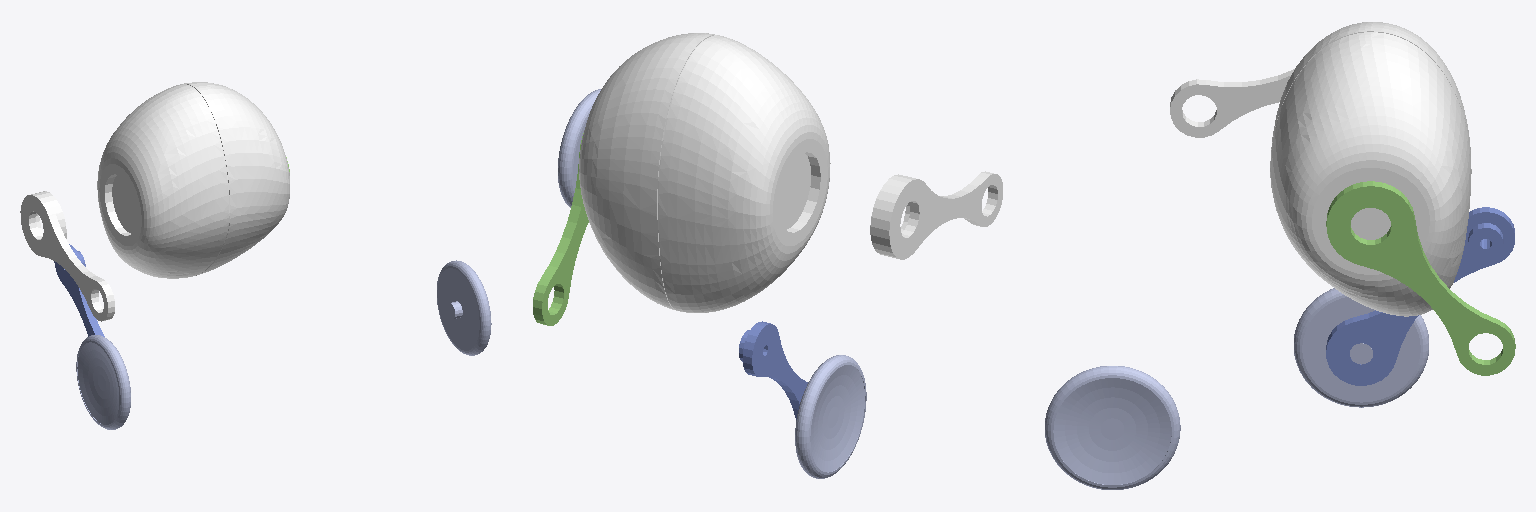
The robot description file, URDF, robot "two_wheel_bot_urdf2":
<?xml version="1.0" encoding="utf-8"?>
<!-- This URDF was automatically created by SolidWorks to URDF Exporter! Originally created by [author] ([email redacted]) 
     Commit Version: 1.6.0-4-g7f85cfe  Build Version: 1.6.7995.38578
     For more information, please see http://wiki.ros.org/sw_urdf_exporter -->
<robot
  name="two_wheel_bot_urdf2">
  <link
    name="base_link">
    <inertial>
      <origin
        xyz="-2.1434E-06 -0.0034235 0.0038162"
        rpy="0 0 0" />
      <mass
        value="5.2299" />
      <inertia
        ixx="0.025489"
        ixy="5.2106E-07"
        ixz="-4.6661E-08"
        iyy="0.021721"
        iyz="-0.0013874"
        izz="0.03001" />
    </inertial>
    <visual>
      <origin
        xyz="0 0 0"
        rpy="0 0 0" />
      <geometry>
        <mesh
          filename="package://two_wheel_bot_urdf2/meshes/base_link.STL" />
      </geometry>
      <material
        name="">
        <color
          rgba="1 1 1 1" />
      </material>
    </visual>
    <collision>
      <origin
        xyz="0 0 0"
        rpy="0 0 0" />
      <geometry>
        <mesh
          filename="package://two_wheel_bot_urdf2/meshes/base_link.STL" />
      </geometry>
    </collision>
  </link>
  <link
    name="link1L">
    <inertial>
      <origin
        xyz="-0.0022174 0.02671 -0.031434"
        rpy="0 0 0" />
      <mass
        value="0.09209" />
      <inertia
        ixx="0.00035582"
        ixy="-5.4542E-06"
        ixz="6.4189E-06"
        iyy="0.00020405"
        iyz="0.00014538"
        izz="0.00015648" />
    </inertial>
    <visual>
      <origin
        xyz="0 0 0"
        rpy="0 0 0" />
      <geometry>
        <mesh
          filename="package://two_wheel_bot_urdf2/meshes/link1L.STL" />
      </geometry>
      <material
        name="">
        <color
          rgba="0.64706 0.8549 0.53333 1" />
      </material>
    </visual>
    <collision>
      <origin
        xyz="0 0 0"
        rpy="0 0 0" />
      <geometry>
        <mesh
          filename="package://two_wheel_bot_urdf2/meshes/link1L.STL" />
      </geometry>
    </collision>
  </link>
  <joint
    name="joint1L"
    type="revolute">
    <origin
      xyz="0.105 0 0"
      rpy="0 0 0" />
    <parent
      link="base_link" />
    <child
      link="link1L" />
    <axis
      xyz="-1 0 0" />
    <limit
      lower="0"
      upper="0"
      effort="0"
      velocity="0" />
  </joint>
  <link
    name="link2L">
    <inertial>
      <origin
        xyz="0.0091303 -0.052372 -0.053402"
        rpy="0 0 0" />
      <mass
        value="0.072246" />
      <inertia
        ixx="0.00032698"
        ixy="3.2906E-06"
        ixz="3.3553E-06"
        iyy="0.00016763"
        iyz="-0.00015236"
        izz="0.0001617" />
    </inertial>
    <visual>
      <origin
        xyz="0 0 0"
        rpy="0 0 0" />
      <geometry>
        <mesh
          filename="package://two_wheel_bot_urdf2/meshes/link2L.STL" />
      </geometry>
      <material
        name="">
        <color
          rgba="0.5451 0.61569 0.85882 1" />
      </material>
    </visual>
    <collision>
      <origin
        xyz="0 0 0"
        rpy="0 0 0" />
      <geometry>
        <mesh
          filename="package://two_wheel_bot_urdf2/meshes/link2L.STL" />
      </geometry>
    </collision>
  </link>
  <joint
    name="joint2L"
    type="revolute">
    <origin
      xyz="0 0.097128 -0.11431"
      rpy="0 0 0" />
    <parent
      link="link1L" />
    <child
      link="link2L" />
    <axis
      xyz="1 0 0" />
    <limit
      lower="0"
      upper="0"
      effort="0"
      velocity="0" />
  </joint>
  <link
    name="wheelL">
    <inertial>
      <origin
        xyz="0.011104 0 -2.7756E-17"
        rpy="0 0 0" />
      <mass
        value="0.12622" />
      <inertia
        ixx="0.00020879"
        ixy="1.9674E-20"
        ixz="1.6241E-20"
        iyy="0.00010647"
        iyz="-1.59E-21"
        izz="0.00010647" />
    </inertial>
    <visual>
      <origin
        xyz="0 0 0"
        rpy="0 0 0" />
      <geometry>
        <mesh
          filename="package://two_wheel_bot_urdf2/meshes/wheelL.STL" />
      </geometry>
      <material
        name="">
        <color
          rgba="0.79216 0.81961 0.93333 1" />
      </material>
    </visual>
    <collision>
      <origin
        xyz="0 0 0"
        rpy="0 0 0" />
      <geometry>
        <mesh
          filename="package://two_wheel_bot_urdf2/meshes/wheelL.STL" />
      </geometry>
    </collision>
  </link>
  <joint
    name="wheel_jointL"
    type="continuous">
    <origin
      xyz="0.01 -0.10503 -0.10709"
      rpy="0 0 0" />
    <parent
      link="link2L" />
    <child
      link="wheelL" />
    <axis
      xyz="1 0 0" />
  </joint>
  <link
    name="link1R">
    <inertial>
      <origin
        xyz="0 0 0"
        rpy="0 0 0" />
      <mass
        value="0" />
      <inertia
        ixx="0"
        ixy="0"
        ixz="0"
        iyy="0"
        iyz="0"
        izz="0" />
    </inertial>
    <visual>
      <origin
        xyz="0 0 0"
        rpy="0 0 0" />
      <geometry>
        <mesh
          filename="package://two_wheel_bot_urdf2/meshes/link1R.STL" />
      </geometry>
      <material
        name="">
        <color
          rgba="1 1 1 1" />
      </material>
    </visual>
    <collision>
      <origin
        xyz="0 0 0"
        rpy="0 0 0" />
      <geometry>
        <mesh
          filename="package://two_wheel_bot_urdf2/meshes/link1R.STL" />
      </geometry>
    </collision>
  </link>
  <joint
    name="joint1R"
    type="revolute">
    <origin
      xyz="-0.105 0 0"
      rpy="0 0 0" />
    <parent
      link="base_link" />
    <child
      link="link1R" />
    <axis
      xyz="1 0 0" />
    <limit
      lower="0"
      upper="0"
      effort="0"
      velocity="0" />
  </joint>
  <link
    name="link2R">
    <inertial>
      <origin
        xyz="-0.0091303 -0.052372 -0.053402"
        rpy="0 0 0" />
      <mass
        value="0.072246" />
      <inertia
        ixx="0.00032698"
        ixy="-3.2906E-06"
        ixz="-3.3553E-06"
        iyy="0.00016763"
        iyz="-0.00015236"
        izz="0.0001617" />
    </inertial>
    <visual>
      <origin
        xyz="0 0 0"
        rpy="0 0 0" />
      <geometry>
        <mesh
          filename="package://two_wheel_bot_urdf2/meshes/link2R.STL" />
      </geometry>
      <material
        name="">
        <color
          rgba="0.5451 0.61569 0.85882 1" />
      </material>
    </visual>
    <collision>
      <origin
        xyz="0 0 0"
        rpy="0 0 0" />
      <geometry>
        <mesh
          filename="package://two_wheel_bot_urdf2/meshes/link2R.STL" />
      </geometry>
    </collision>
  </link>
  <joint
    name="joint2R"
    type="revolute">
    <origin
      xyz="0 0.097128 -0.11431"
      rpy="0 0 0" />
    <parent
      link="link1R" />
    <child
      link="link2R" />
    <axis
      xyz="-1 0 0" />
    <limit
      lower="0"
      upper="0"
      effort="0"
      velocity="0" />
  </joint>
  <link
    name="wheelR">
    <inertial>
      <origin
        xyz="-0.011104 -1.7347E-18 -2.7756E-17"
        rpy="0 0 0" />
      <mass
        value="0.12622" />
      <inertia
        ixx="0.00020879"
        ixy="1.9257E-20"
        ixz="1.4696E-20"
        iyy="0.00010647"
        iyz="2.7921E-36"
        izz="0.00010647" />
    </inertial>
    <visual>
      <origin
        xyz="0 0 0"
        rpy="0 0 0" />
      <geometry>
        <mesh
          filename="package://two_wheel_bot_urdf2/meshes/wheelR.STL" />
      </geometry>
      <material
        name="">
        <color
          rgba="0.79216 0.81961 0.93333 1" />
      </material>
    </visual>
    <collision>
      <origin
        xyz="0 0 0"
        rpy="0 0 0" />
      <geometry>
        <mesh
          filename="package://two_wheel_bot_urdf2/meshes/wheelR.STL" />
      </geometry>
    </collision>
  </link>
  <joint
    name="wheel_jointR"
    type="continuous">
    <origin
      xyz="-0.01 -0.10503 -0.10709"
      rpy="0 0 0" />
    <parent
      link="link2R" />
    <child
      link="wheelR" />
    <axis
      xyz="-1 0 0" />
  </joint>
</robot>

--- Render facts (derived) ---
Views: 3 orthographic renders of the robot side by side, from view 1: azimuth 30°, elevation 25°; view 2: azimuth 150°, elevation 25°; view 3: azimuth 270°, elevation 25°.
Model two_wheel_bot_urdf2 with 7 links and 6 joints (4 revolute, 2 continuous), rooted at base_link, posed all joints at 0.
Visible links, largest first — view 1: base_link, link1R, wheelR, wheelL, link2R; view 2: base_link, link1R, wheelR, link1L, link2R, wheelL; view 3: base_link, wheelL, link1L, wheelR, link2R, link1R.
Boxes of the visible links, x1,y1,x2,y2 form: base_link: [97, 82, 289, 278]; link1R: [20, 191, 114, 321]; wheelR: [76, 335, 130, 429]; wheelL: [437, 260, 491, 355]; link2R: [54, 244, 104, 336]; base_link: [579, 33, 830, 312]; link1R: [870, 171, 1002, 259]; wheelR: [795, 355, 866, 478]; link1L: [533, 133, 588, 325]; link2R: [739, 321, 807, 419]; wheelL: [558, 89, 600, 207]; base_link: [1270, 22, 1471, 316]; wheelL: [1045, 366, 1180, 489]; link1L: [1326, 181, 1515, 375]; wheelR: [1294, 288, 1428, 407]; link2R: [1326, 207, 1514, 385]; link1R: [1170, 69, 1294, 137].
Size in the robot's own frame: 0.465 by 0.3977 by 0.4089 metres.
6 mesh visuals loaded from 7 distinct referenced files (6 binary STL); not drawn: 1 (reference not matched to a file when rendering).